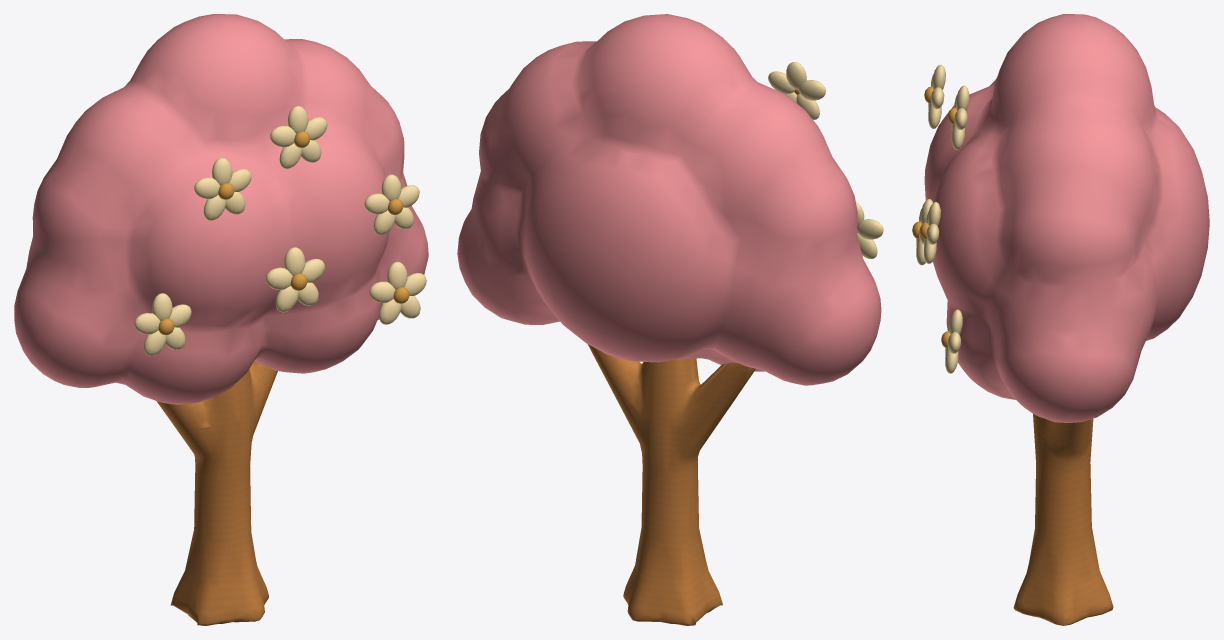
The model's file is pink_blossom_tree.glb.
The picture shows the model from 3 angles, left to right: view 1: azimuth 30°, elevation 25°; view 2: azimuth 150°, elevation 25°; view 3: azimuth 270°, elevation 25°; orthographic projection.
Parts seen in each view (by area): view 1: rounded_canopy, trunk_and_branches; view 2: rounded_canopy, trunk_and_branches; view 3: rounded_canopy, trunk_and_branches.
Boxes of the visible parts, <box> form: rounded_canopy: <box>14,14,428,404</box>; trunk_and_branches: <box>156,361,277,625</box>; rounded_canopy: <box>457,14,881,385</box>; trunk_and_branches: <box>587,344,755,625</box>; rounded_canopy: <box>924,14,1209,422</box>; trunk_and_branches: <box>1013,414,1113,625</box>.
Bounding box in the file's own units: 1.72 × 2.4 × 1.11.
4 materials, 1 textured.
